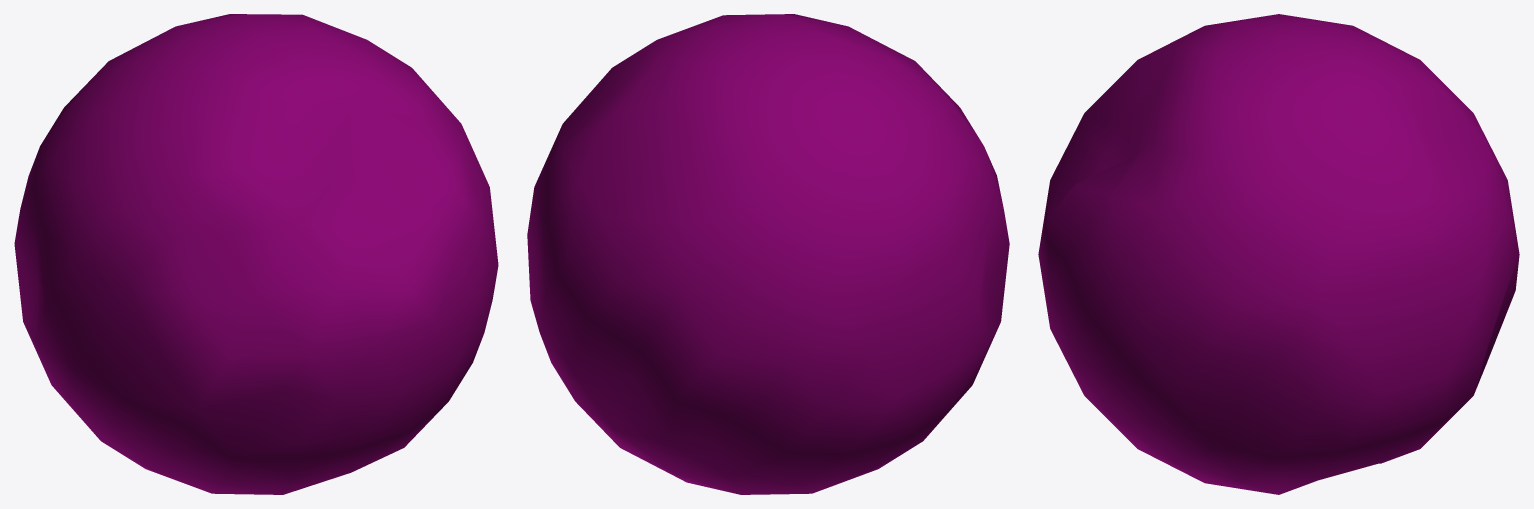
The model's file is Silo.fbx.
3 views of the same model, side by side, from view 1: azimuth 30°, elevation 25°; view 2: azimuth 150°, elevation 25°; view 3: azimuth 270°, elevation 25° (orthographic).
Parts seen in each view (by area): view 1: Sphere.003; view 2: Sphere.003; view 3: Sphere.003.
Part boxes in pixels (x1,y1,x2,y2): Sphere.003: (14,14,498,494); Sphere.003: (527,14,1009,494); Sphere.003: (1038,14,1519,494).
Size of the model in its own units: 8 by 8 by 8.
